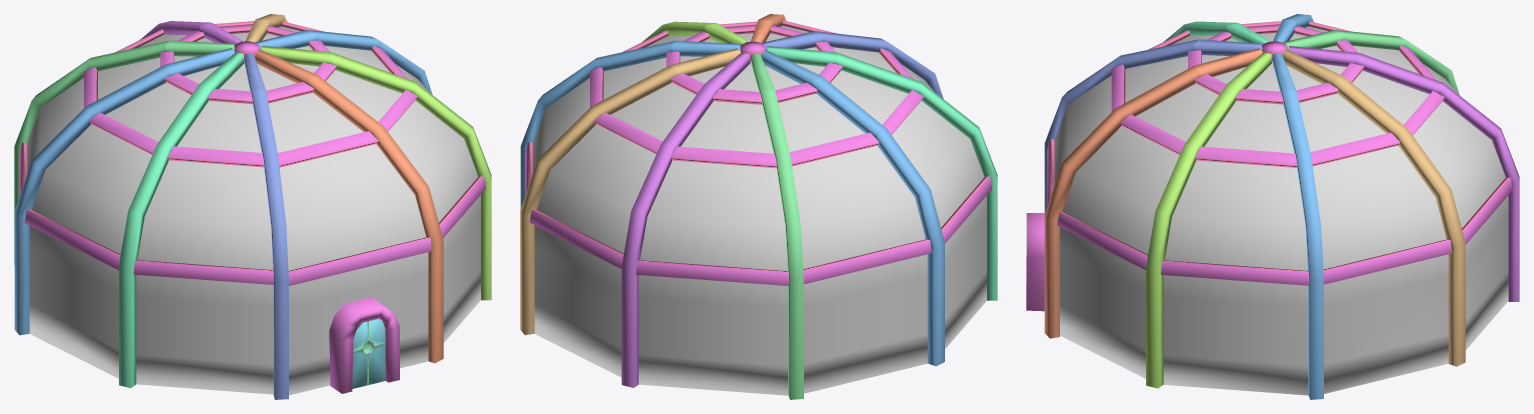
Rendered from cupola.fbx.
3 views of the same model, side by side, from view 1: azimuth 30°, elevation 25°; view 2: azimuth 150°, elevation 25°; view 3: azimuth 270°, elevation 25° (orthographic).
Parts seen in each view (by area): view 1: Recovered_Tool, PM3D_Cylinder3D_10, PM3D_Cylinder3D_5, PM3D_Cylinder3D_5_copy1, PM3D_Cylinder3D_7; view 2: Recovered_Tool, PM3D_Cylinder3D_10, PM3D_Cylinder3D_5; view 3: Recovered_Tool, PM3D_Cylinder3D_10, PM3D_Cylinder3D_5, PM3D_Cylinder3D_5_copy1.
Boxes of the visible parts, x1,y1,x2,y2 form: Recovered_Tool: (27, 26, 480, 395); PM3D_Cylinder3D_10: (14, 14, 491, 399); PM3D_Cylinder3D_5: (20, 21, 485, 285); PM3D_Cylinder3D_5_copy1: (329, 297, 399, 393); PM3D_Cylinder3D_7: (352, 319, 385, 388); Recovered_Tool: (533, 25, 986, 395); PM3D_Cylinder3D_10: (520, 14, 997, 399); PM3D_Cylinder3D_5: (525, 20, 992, 285); Recovered_Tool: (1054, 26, 1508, 395); PM3D_Cylinder3D_10: (1044, 14, 1519, 399); PM3D_Cylinder3D_5: (1047, 21, 1512, 285); PM3D_Cylinder3D_5_copy1: (1026, 212, 1044, 311).
Size of the model in its own units: 2.88 by 1.66 by 2.93.
